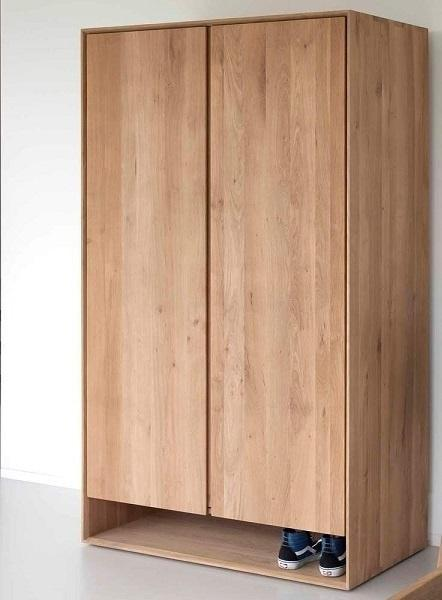Armario: (73, 6, 427, 586)
